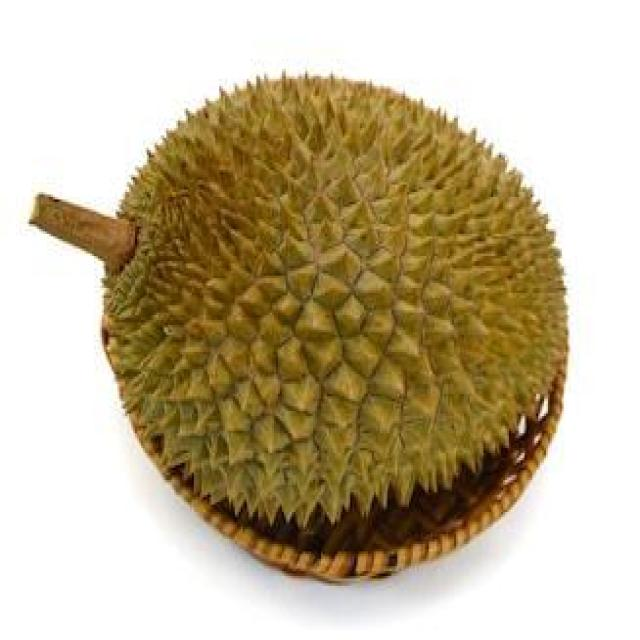mature: (106, 80, 565, 527)
